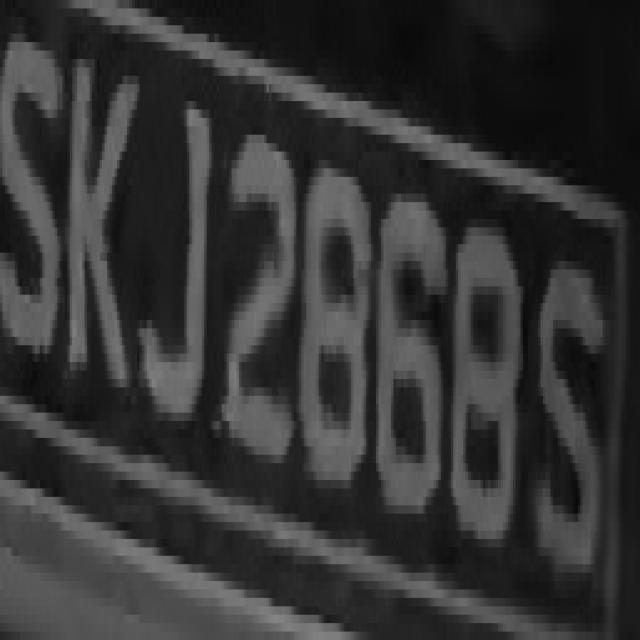2: (222, 84, 298, 505)
6: (374, 135, 448, 556)
8: (443, 177, 528, 547), (296, 93, 371, 505)
J: (140, 67, 222, 455)
K: (57, 42, 132, 438)
S: (530, 227, 608, 581), (2, 17, 60, 396)
